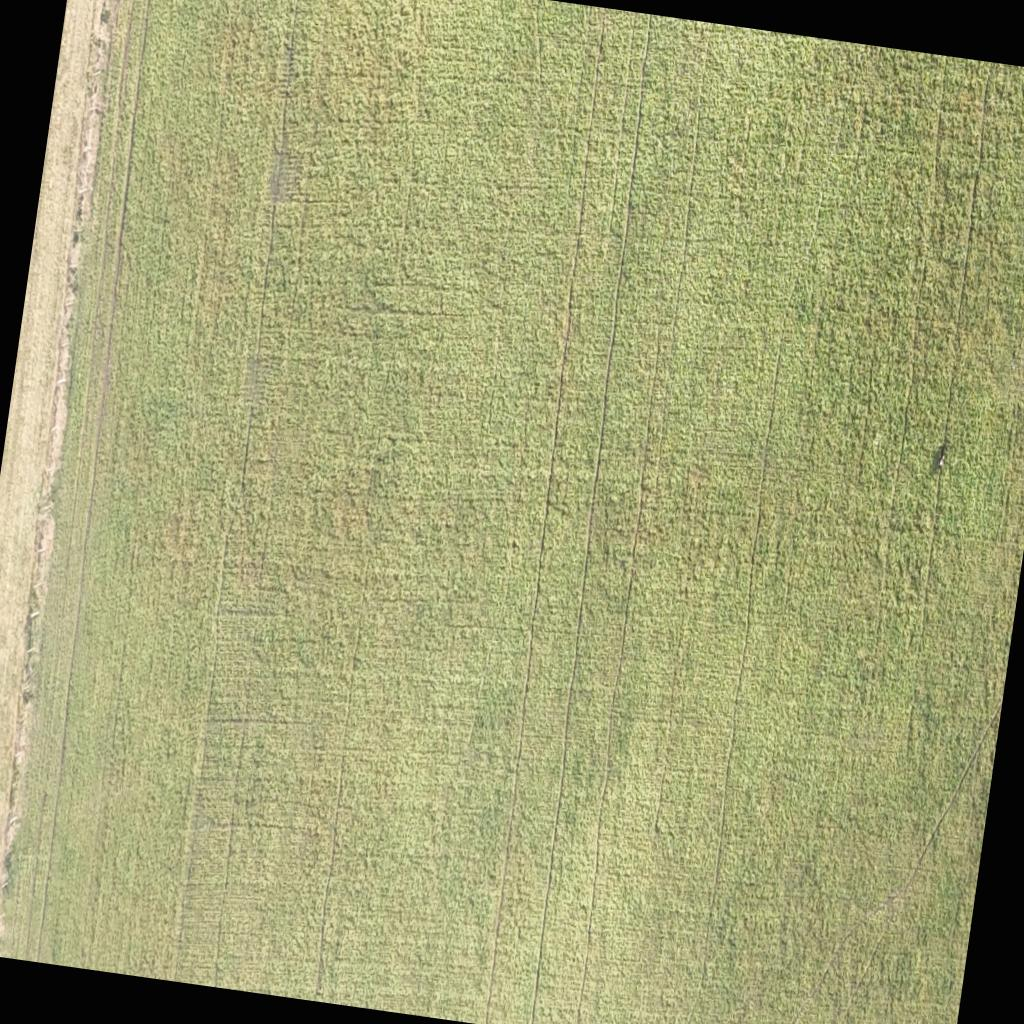cow: (936, 442, 948, 470)
